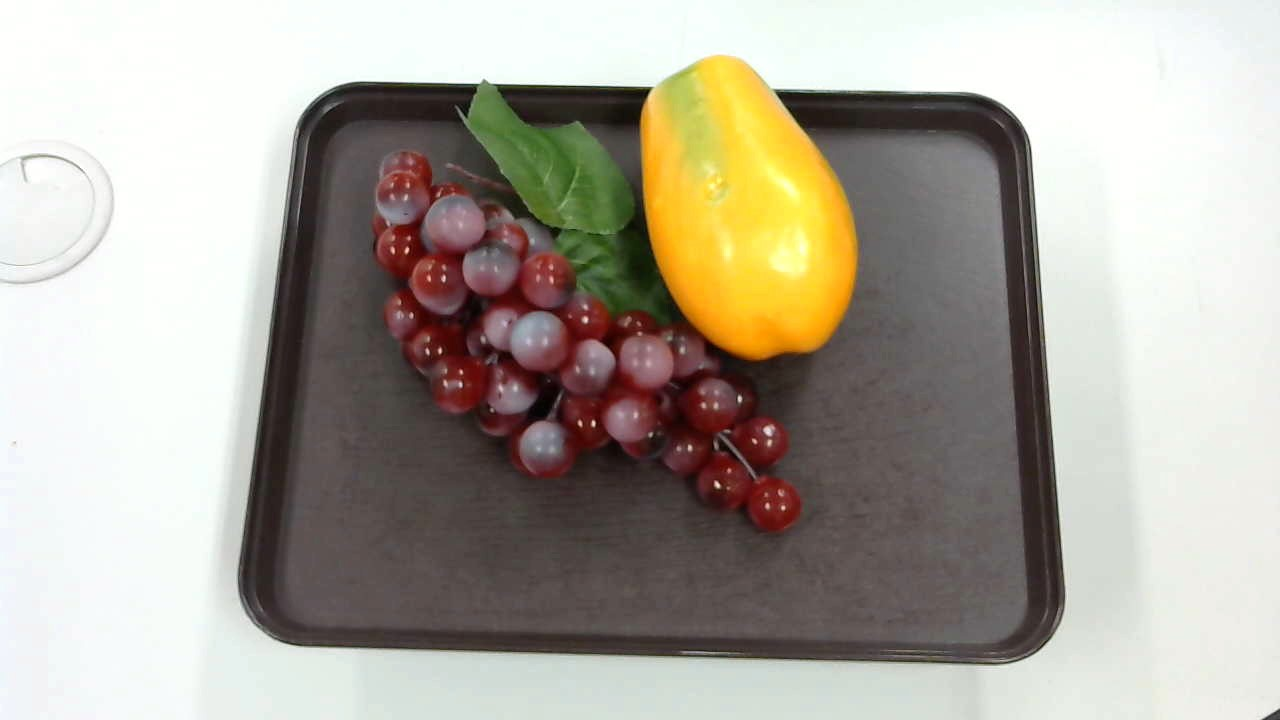grape: (364, 76, 803, 539)
papya: (637, 52, 862, 366)
